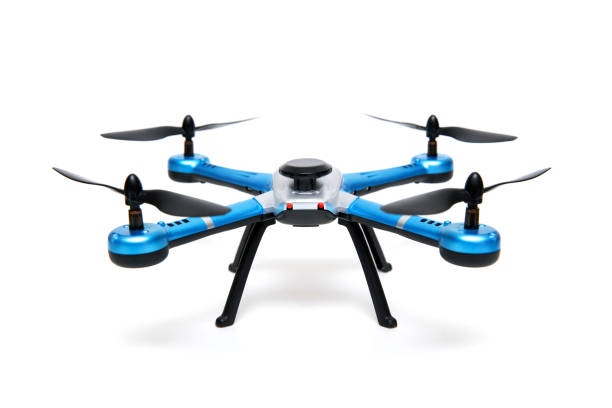Drone: (47, 111, 552, 337)
